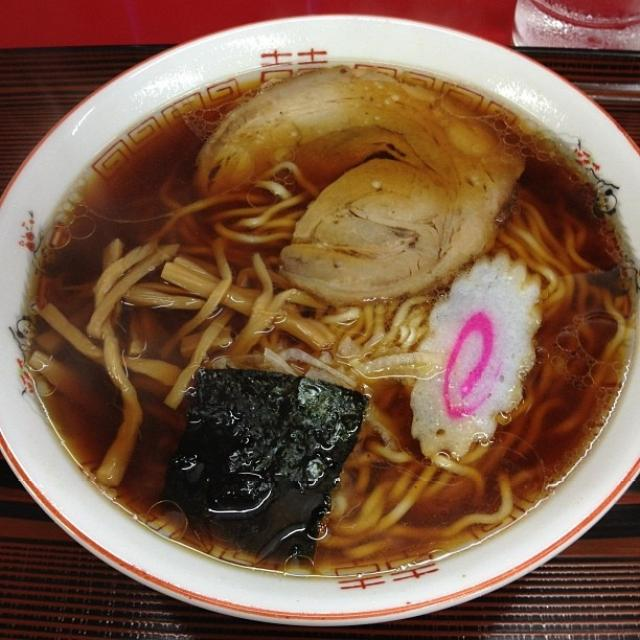面条主食: (0, 10, 640, 636)
